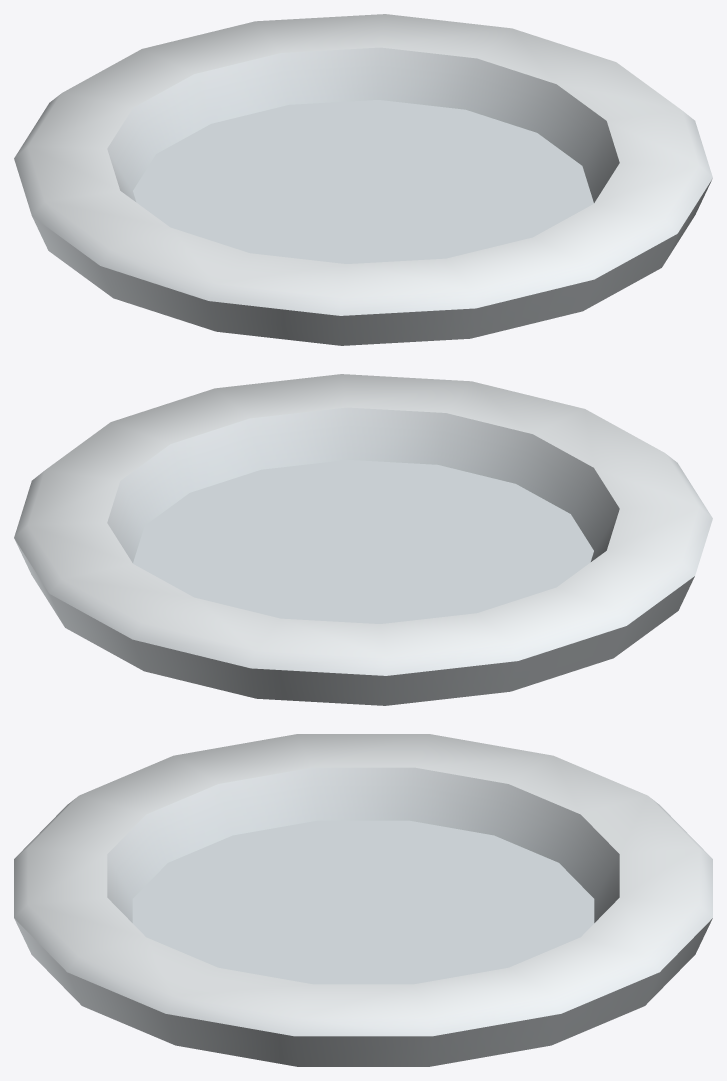
The model's file is Plate.glb.
3 views of the same model, one above another, from view 1: azimuth 30°, elevation 25°; view 2: azimuth 150°, elevation 25°; view 3: azimuth 270°, elevation 25° (orthographic).
Visible parts, largest first — view 1: plate; view 2: plate; view 3: plate.
Part boxes in pixels (bbox=[...]): plate: bbox=[14, 14, 712, 345]; plate: bbox=[14, 374, 712, 705]; plate: bbox=[14, 734, 712, 1066].
Bounding box in the file's own units: 0.75 × 0.1 × 0.75.
1 material, 1 textured.
